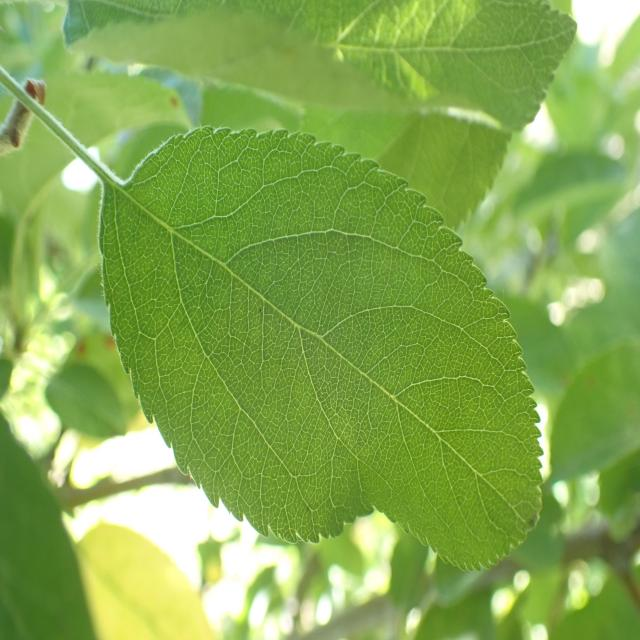healthy: (97, 124, 543, 573), (59, 0, 582, 133)
